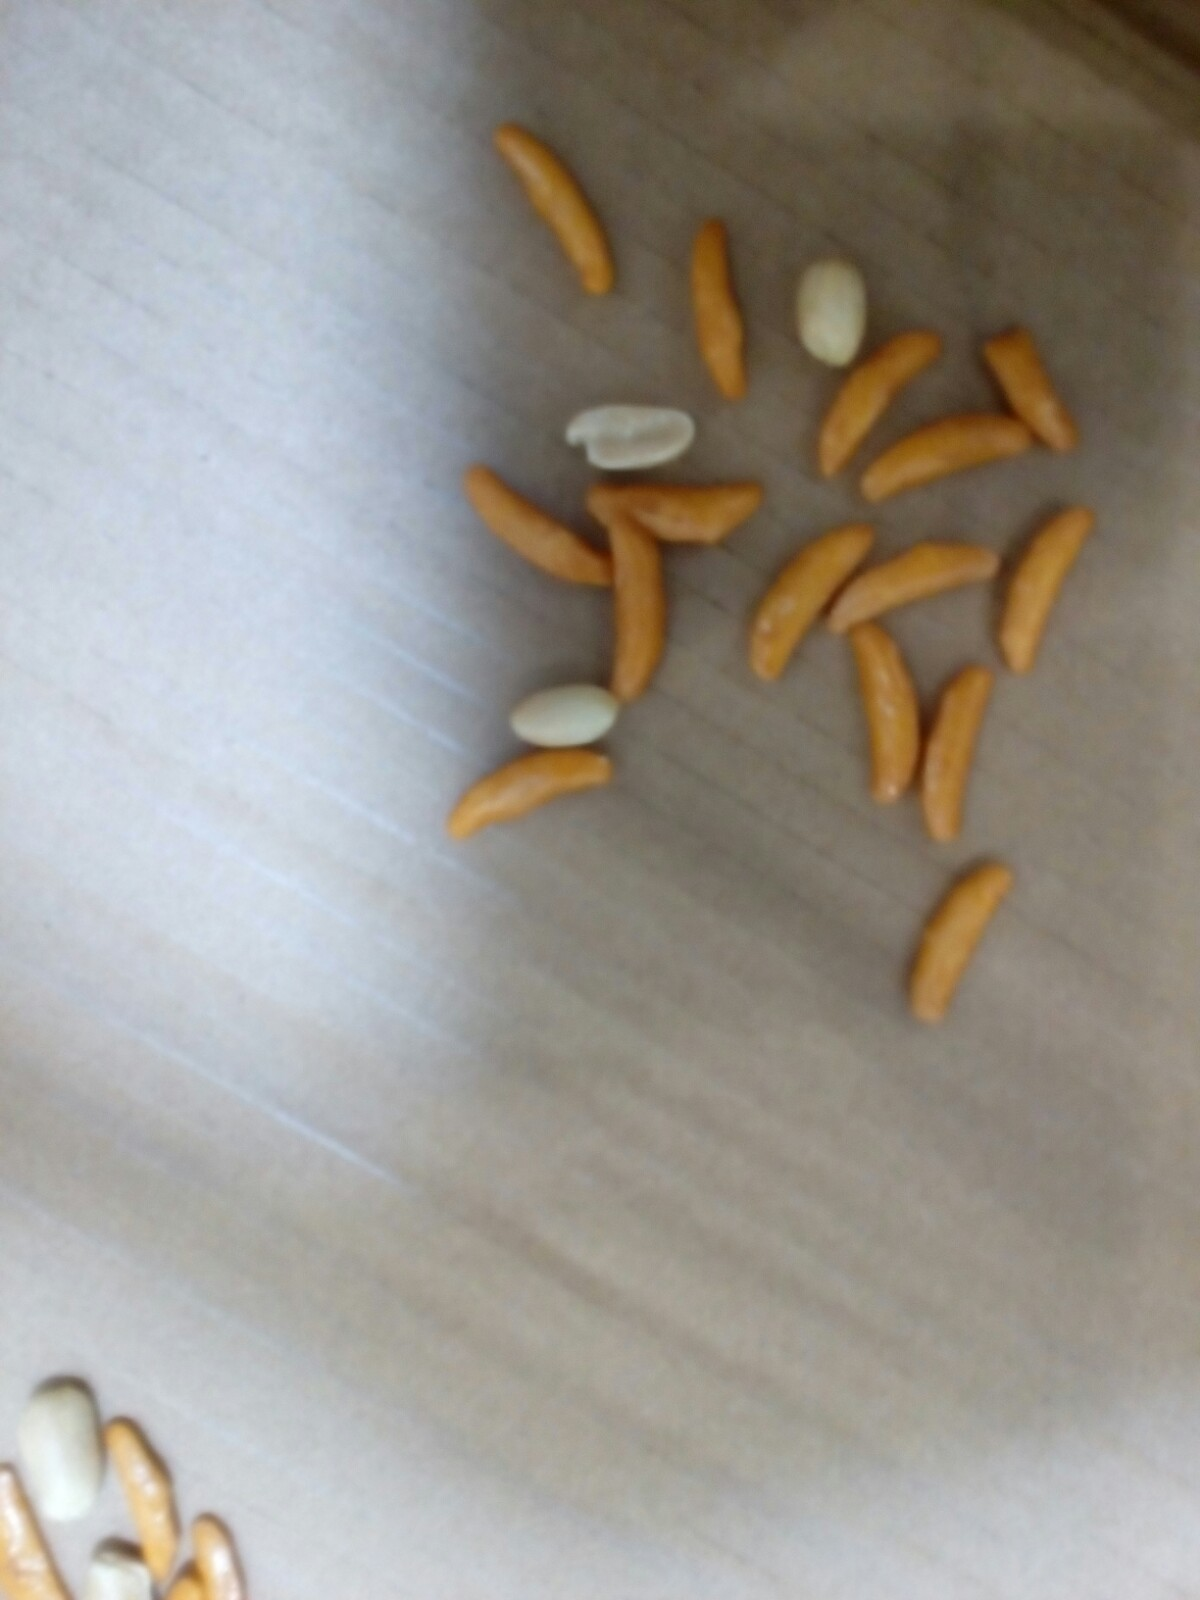peanut: (11, 1367, 107, 1531), (567, 397, 705, 483), (787, 248, 875, 378), (507, 674, 628, 758)
